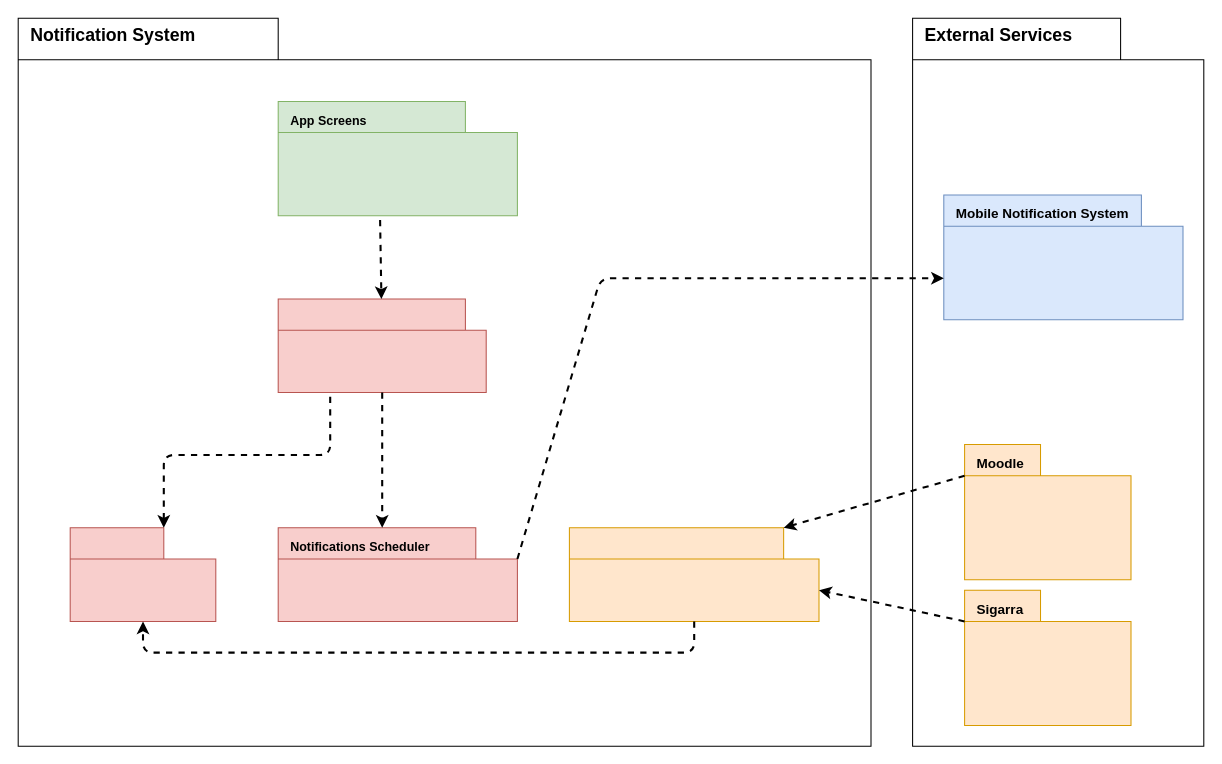
Some shapes in this 1222 by 764 pixel diagram are drawn without their labels. Here are the shapes that lost their labels. From the top down, the centre of each, then its label:
At point 381,345: "Notifications User Logic".
At point 142,574: "Database".
At point 693,574: "External Events Handler".
